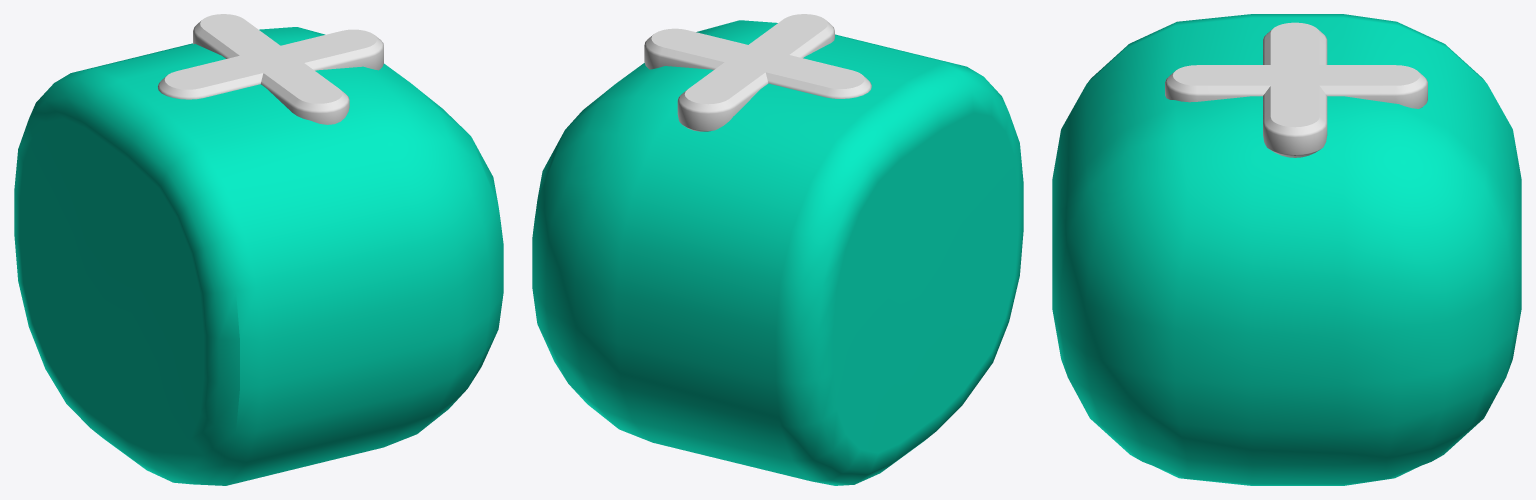
File: loop_plus.fbx
The picture shows the model from 3 angles, left to right: view 1: azimuth 30°, elevation 25°; view 2: azimuth 150°, elevation 25°; view 3: azimuth 270°, elevation 25°; orthographic projection. The views are drawn at different scales.
Parts seen in each view (by area): view 1: polySurface72; view 2: polySurface72; view 3: polySurface72.
Part boxes in pixels (x1=…): polySurface72: x1=14, y1=14, x2=503, y2=485; polySurface72: x1=532, y1=14, x2=1023, y2=485; polySurface72: x1=1052, y1=14, x2=1521, y2=485.
Bounding box in the file's own units: 0.008 × 0.00815 × 0.00913.
